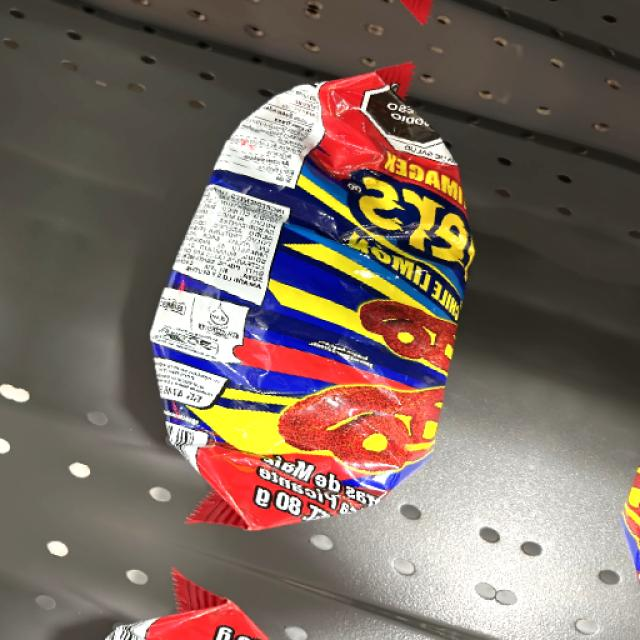runners: (158, 128, 458, 513)
